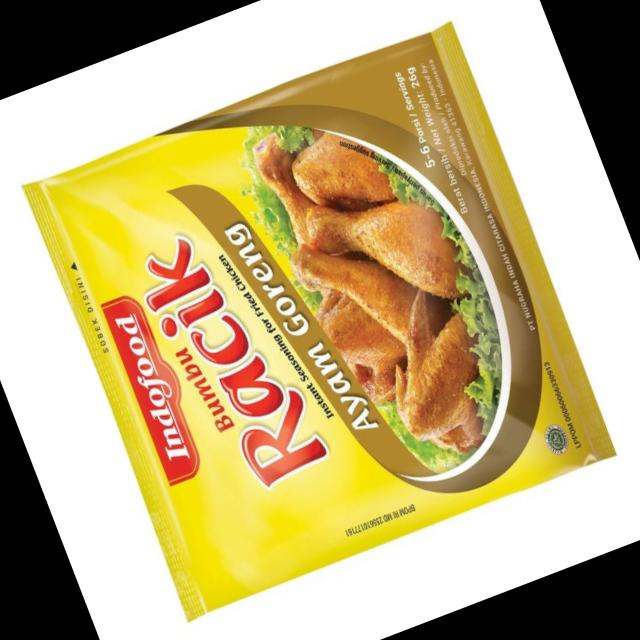KemasanPlastik: (25, 26, 618, 621)
